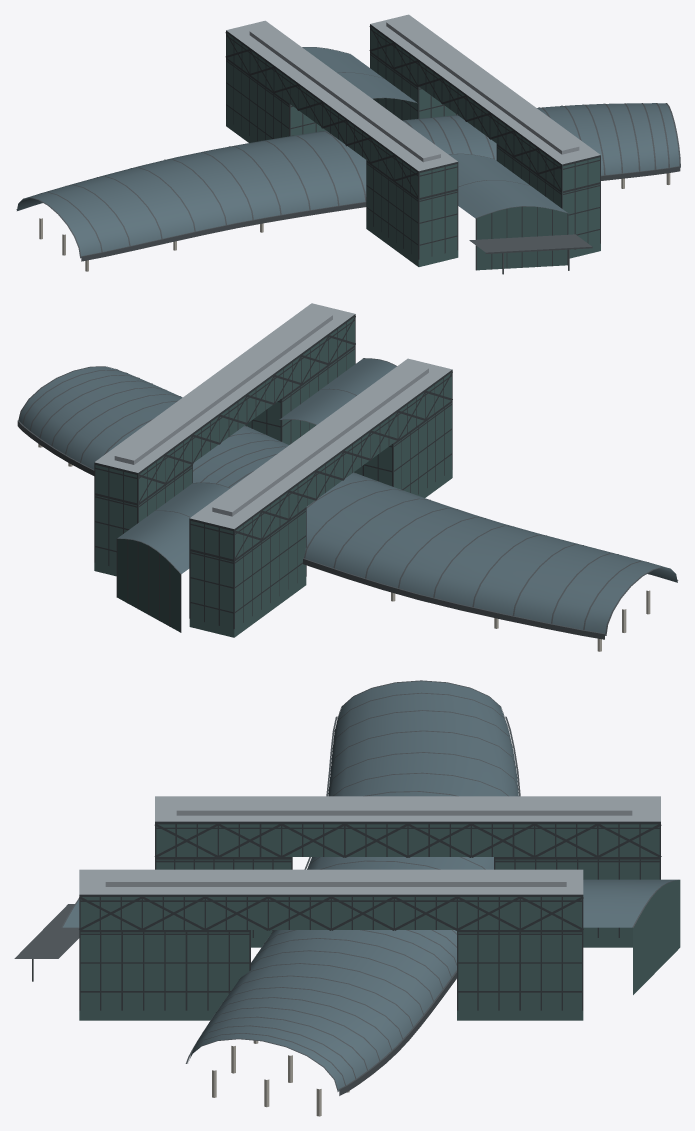
File: berlin-hauptbahnhof.glb
3 renders of one model, top to bottom at view 1: azimuth 30°, elevation 25°; view 2: azimuth 150°, elevation 25°; view 3: azimuth 270°, elevation 25°, orthographic. The views are drawn at different scales.
Parts seen in each view (by area): view 1: Berlin Hauptbahnhof; view 2: Berlin Hauptbahnhof; view 3: Berlin Hauptbahnhof.
Part boxes in pixels (x1,y1,x2,y2): Berlin Hauptbahnhof: (16,14,680,274); Berlin Hauptbahnhof: (17,303,678,651); Berlin Hauptbahnhof: (14,680,680,1116).
Size of the model in its own units: 318 by 51.9 by 240.
